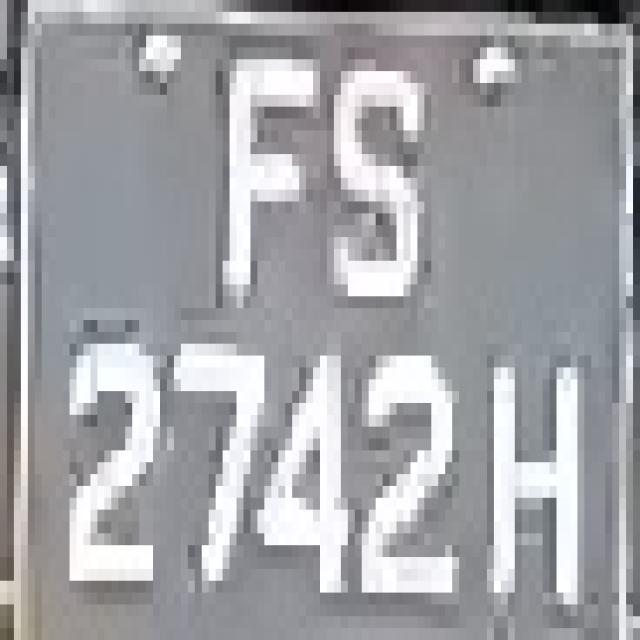2: (355, 296, 473, 604), (49, 308, 167, 593)
4: (250, 320, 355, 593)
7: (139, 296, 264, 593)
F: (195, 24, 306, 296)
H: (473, 320, 591, 616)
S: (313, 35, 445, 332)
